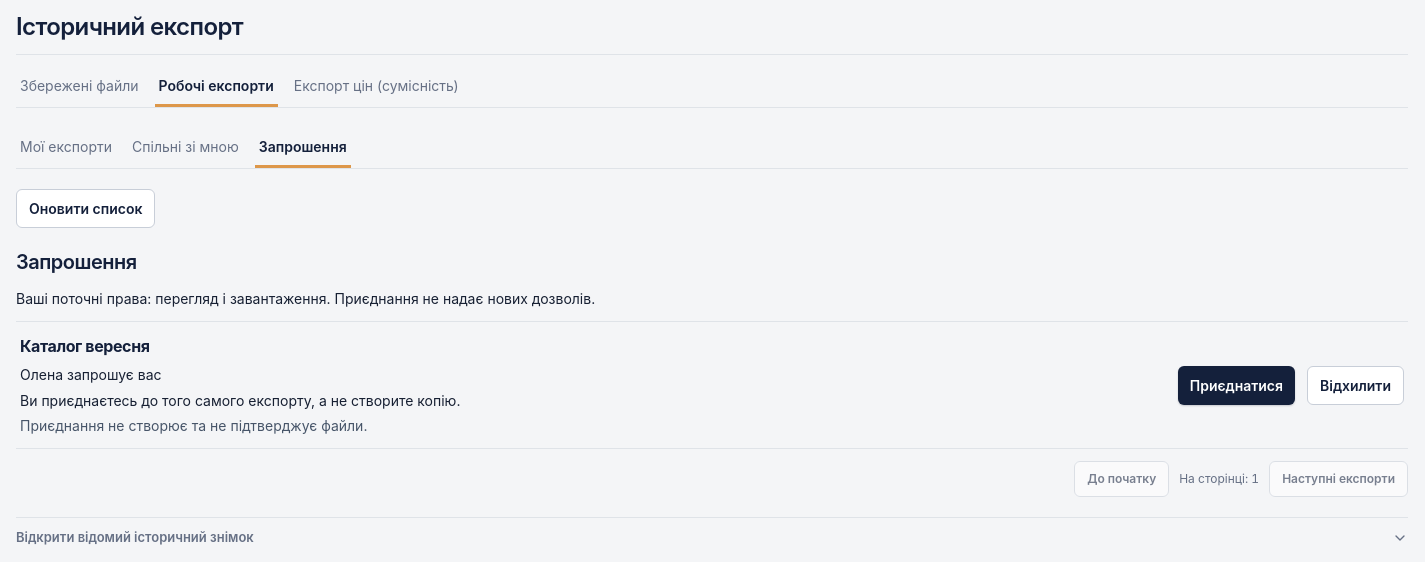
Test: UX4 invitations hide even supplied private metadata; decline never opens or creates a membership
The width and height of the screenshot is (1425, 562).
Expected: the heading "Каталог вересня" is shown, [20, 336, 150, 356]
Expected: the text "Ви приєднаєтесь до того самого експорту, а не створите копію." is shown, [20, 392, 460, 409]
Click the button "Відхилити". click: (1356, 385)
box: [1307, 366, 1404, 404]
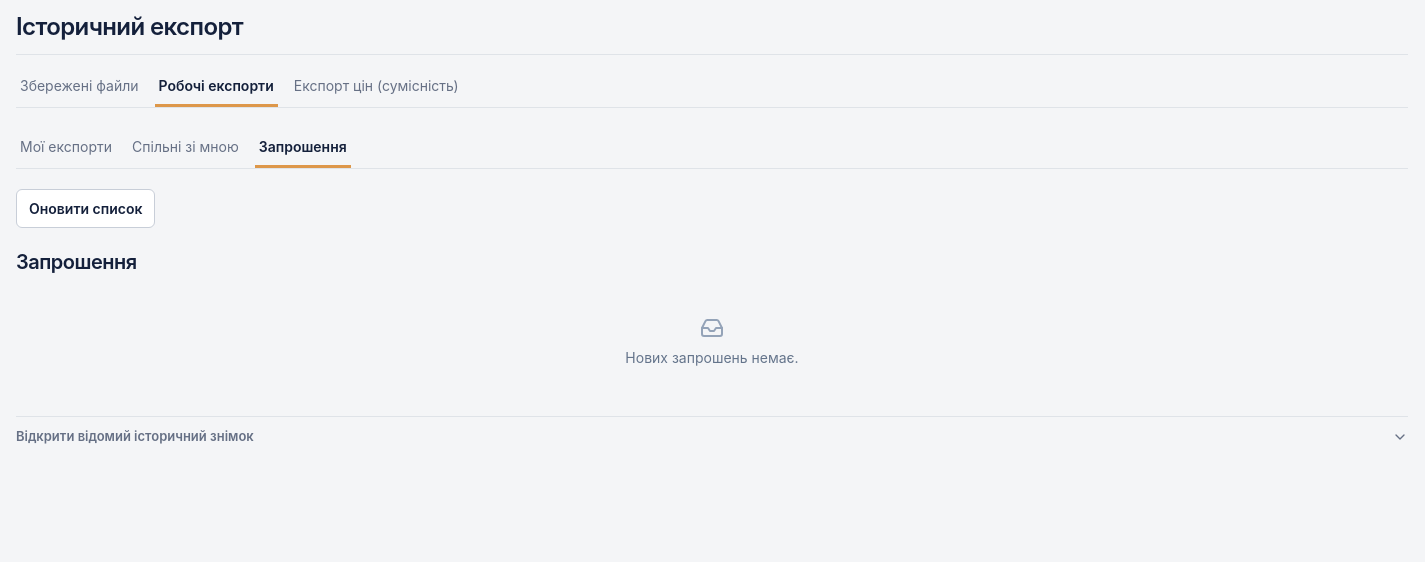
Expected: the text "Нових запрошень немає." is shown, [625, 348, 799, 368]
